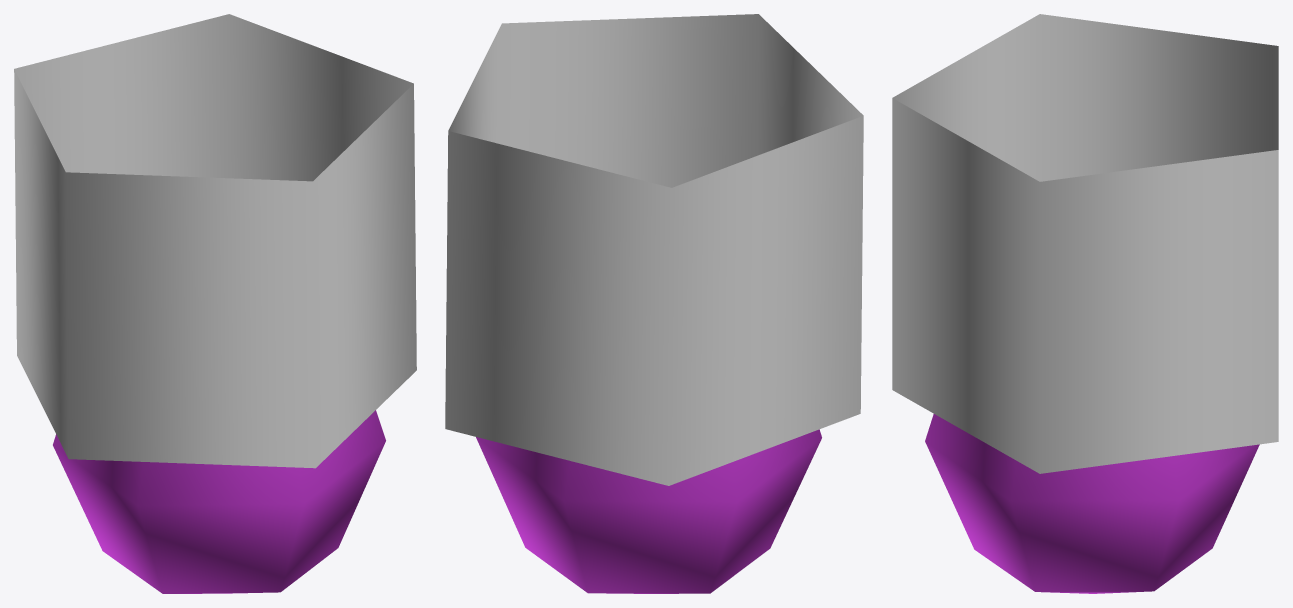
The model's file is index_intermediate.gltf.
3 views of the same model, side by side, from view 1: azimuth 30°, elevation 25°; view 2: azimuth 150°, elevation 25°; view 3: azimuth 270°, elevation 25° (orthographic). The views are drawn at different scales.
Parts seen in each view (by area): view 1: LEFT_INDEX_INTERMEDIATE; view 2: LEFT_INDEX_INTERMEDIATE; view 3: LEFT_INDEX_INTERMEDIATE.
Boxes of the visible parts, x1,y1,x2,y2 form: LEFT_INDEX_INTERMEDIATE: (14, 14, 416, 593); LEFT_INDEX_INTERMEDIATE: (445, 14, 863, 593); LEFT_INDEX_INTERMEDIATE: (892, 14, 1278, 593).
Size of the model in its own units: 0.0258 by 0.0344 by 0.0244.
